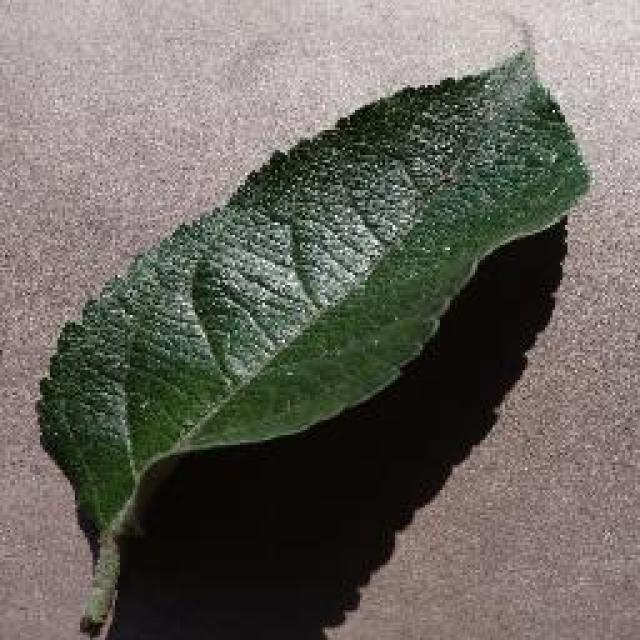apple scab disease: (32, 27, 592, 635)
